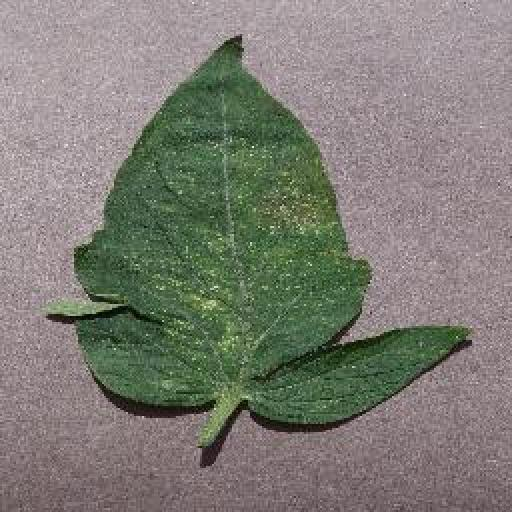Spider Mites: (44, 32, 471, 428)
